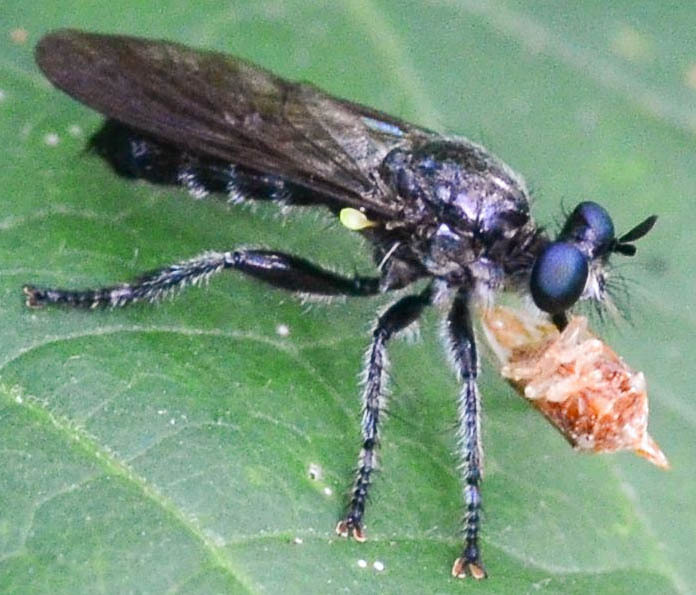not_bumblebee: (21, 28, 657, 579)
